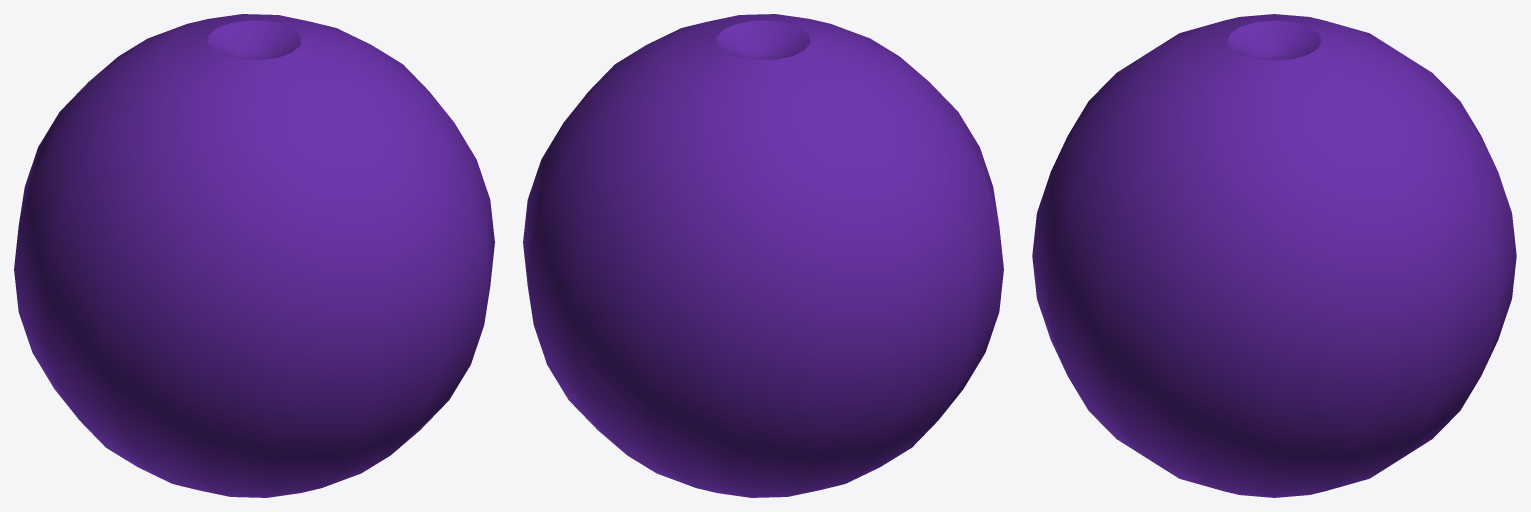
The model's file is VodyankaBerryGO1.fbx.
3 views of the same model, side by side, from view 1: azimuth 30°, elevation 25°; view 2: azimuth 150°, elevation 25°; view 3: azimuth 270°, elevation 25° (orthographic).
Parts seen in each view (by area): view 1: Vodyanka Berry; view 2: Vodyanka Berry; view 3: Vodyanka Berry.
Part boxes in pixels (x1,y1,x2,y2): Vodyanka Berry: (14,14,494,497); Vodyanka Berry: (523,14,1003,497); Vodyanka Berry: (1032,14,1516,497).
Size of the model in its own units: 7.54 by 7.47 by 7.54.
